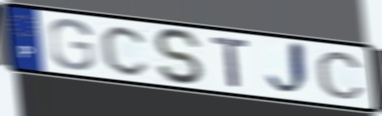C: (99, 24, 152, 78), (314, 50, 367, 101)
G: (46, 17, 97, 72)
J: (264, 39, 314, 99)
S: (151, 26, 208, 87)
T: (210, 35, 252, 90)
